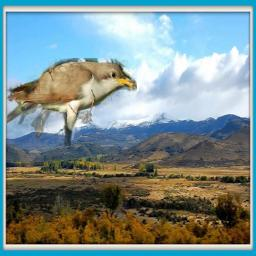Cuckoo: (7, 58, 137, 146)
